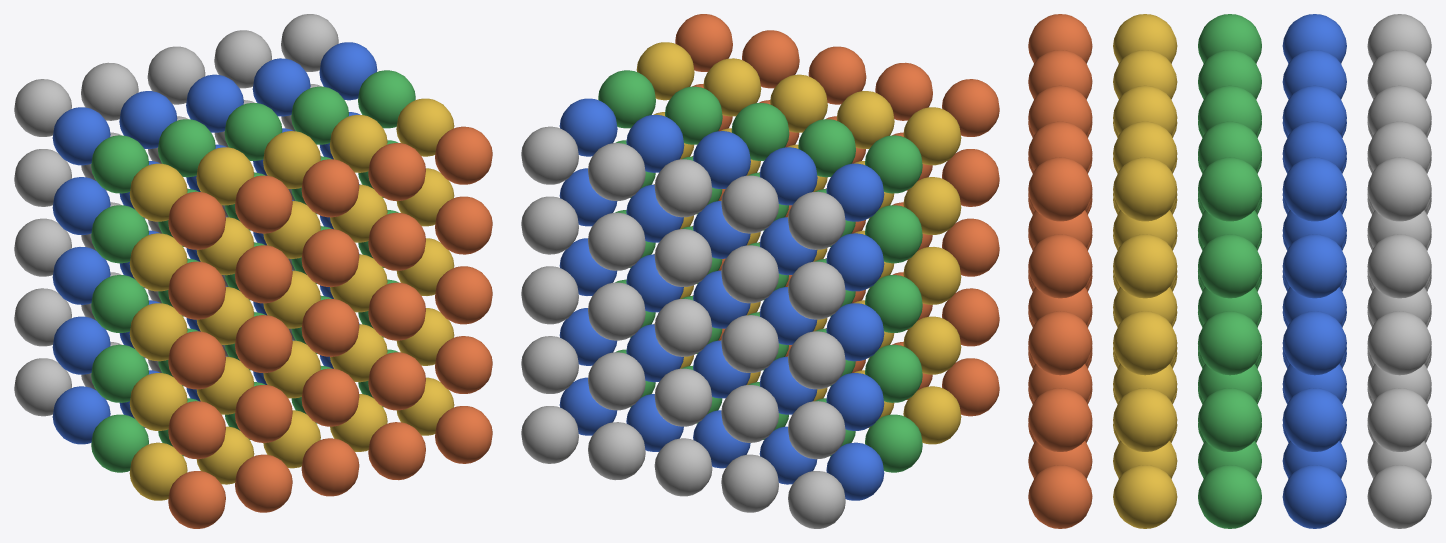
File: PBRMaterialTextureCube.gltf
3 renders of one model, left to right at view 1: azimuth 30°, elevation 25°; view 2: azimuth 150°, elevation 25°; view 3: azimuth 270°, elevation 25°, orthographic. The views are drawn at different scales.
Visible parts, largest first — view 1: PBRTexture_C0_terracotta, PBRTexture_C1_gold, PBRTexture_C2_green, PBRTexture_C3_blue, PBRTexture_C4_neutral; view 2: PBRTexture_C4_neutral, PBRTexture_C3_blue, PBRTexture_C2_green, PBRTexture_C1_gold, PBRTexture_C0_terracotta; view 3: PBRTexture_C0_terracotta, PBRTexture_C4_neutral, PBRTexture_C1_gold, PBRTexture_C3_blue, PBRTexture_C2_green.
Boxes of the visible parts, box(x1,y1,x2,y2) form: PBRTexture_C0_terracotta: box(168, 126, 492, 528); PBRTexture_C1_gold: box(129, 98, 454, 500); PBRTexture_C2_green: box(91, 70, 415, 472); PBRTexture_C3_blue: box(52, 42, 377, 444); PBRTexture_C4_neutral: box(14, 14, 338, 416); PBRTexture_C4_neutral: box(521, 126, 845, 528); PBRTexture_C3_blue: box(559, 98, 884, 500); PBRTexture_C2_green: box(598, 70, 922, 472); PBRTexture_C1_gold: box(636, 42, 961, 444); PBRTexture_C0_terracotta: box(675, 14, 999, 416); PBRTexture_C0_terracotta: box(1028, 14, 1092, 528); PBRTexture_C4_neutral: box(1367, 14, 1431, 528); PBRTexture_C1_gold: box(1113, 14, 1177, 528); PBRTexture_C3_blue: box(1282, 14, 1346, 528); PBRTexture_C2_green: box(1198, 14, 1261, 528).
Bounding box in the file's own units: 6.9 × 6.9 × 6.9.
